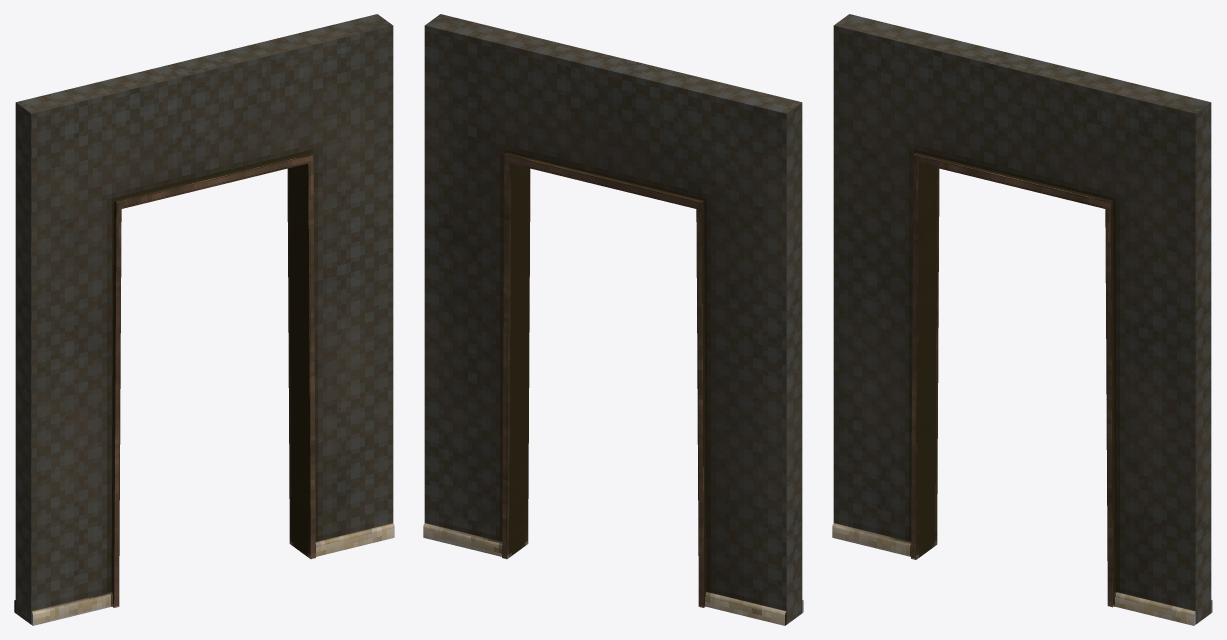
The model's file is Wall_Door_IntInt.glb.
The picture shows the model from 3 angles, left to right: view 1: azimuth 30°, elevation 25°; view 2: azimuth 150°, elevation 25°; view 3: azimuth 330°, elevation 25°; orthographic projection.
Parts seen in each view (by area): view 1: Wall_Door_IntInt; view 2: Wall_Door_IntInt; view 3: Wall_Door_IntInt.
Part boxes in pixels (box(x1,y1,x2,y2)): Wall_Door_IntInt: box(14, 14, 394, 625); Wall_Door_IntInt: box(423, 14, 803, 625); Wall_Door_IntInt: box(832, 14, 1212, 625).
Bounding box in the file's own units: 2 × 2.7 × 0.2017.
1 material, 1 textured.
